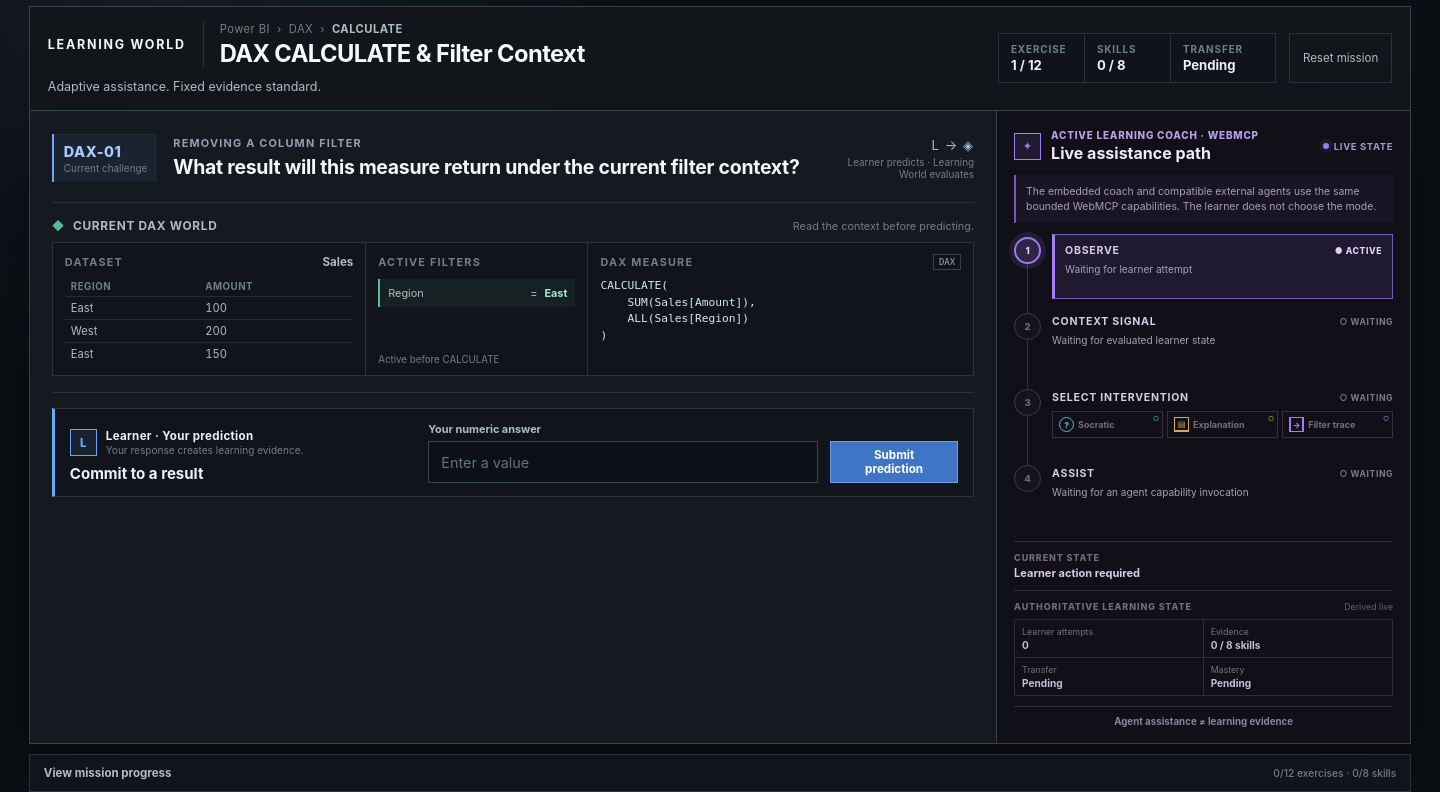
Test: embedded DAX Active Learning Coach flow › binds socratic selection to the real request_socratic_intervention WebMCP result and rail
The width and height of the screenshot is (1440, 792).
Type "250" into the number field labelled "Your numeric answer" at x=623, y=462, box top-left (428, 441), bottom-right (818, 483)
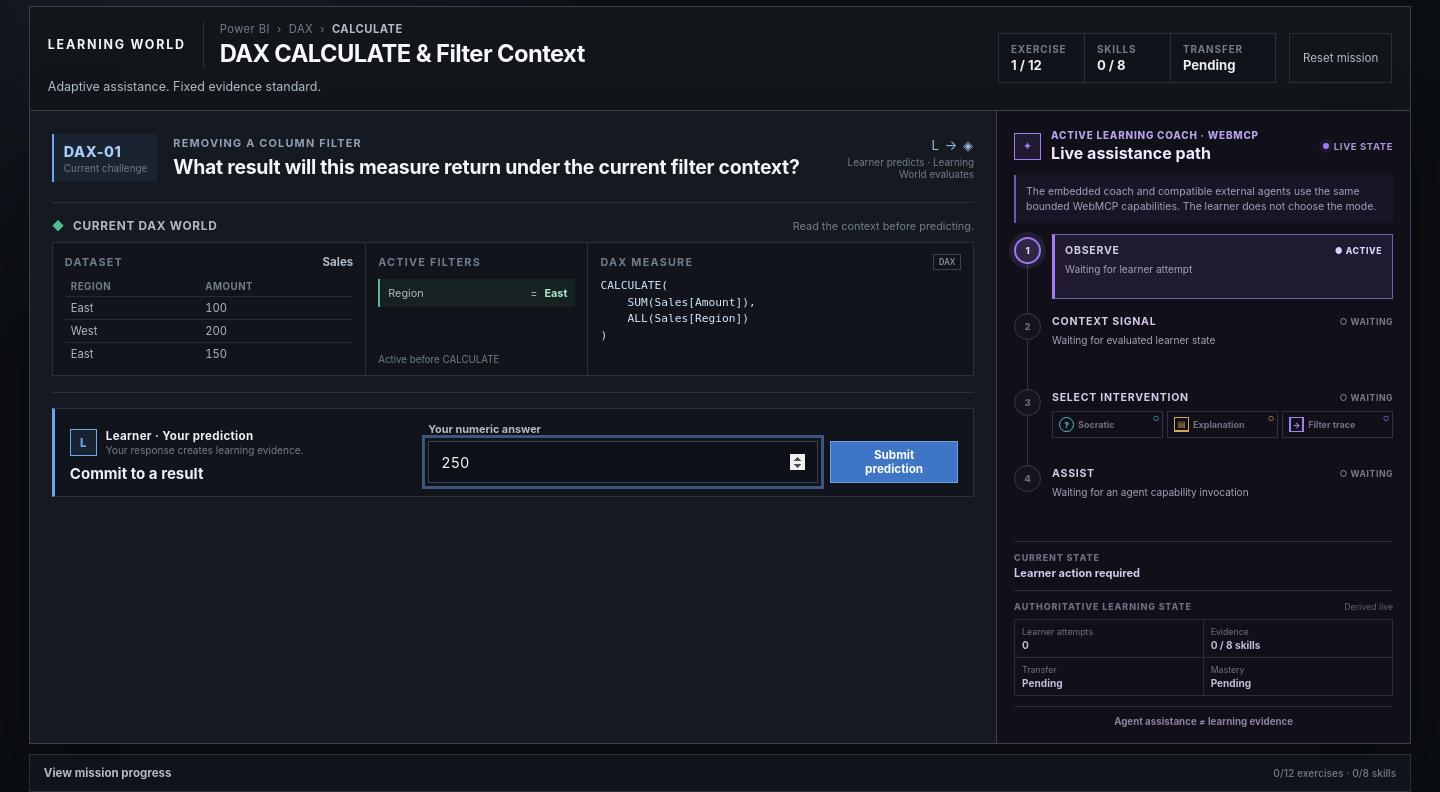
Click the button "Submit prediction" at x=894, y=462, box top-left (830, 441), bottom-right (958, 483)
(page scrolled)
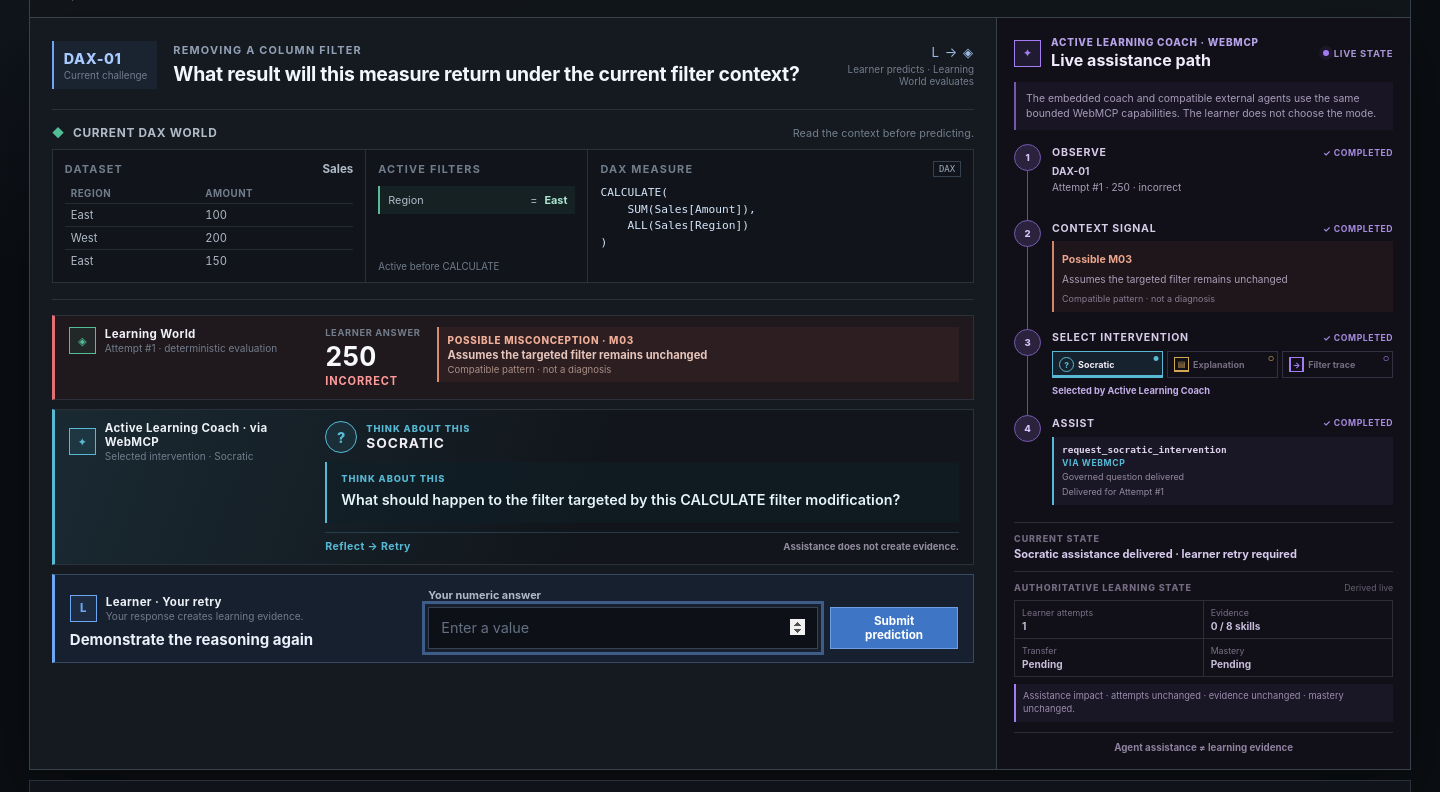
Expected: the text "request_socratic_intervention" is shown, top-left (1062, 444), bottom-right (1227, 455)
Expected: the element named "AI Agent intervention" shows "Active Learning Coach · via WebMCP", top-left (52, 409), bottom-right (974, 565)
Expected: the element named "AI Agent intervention" shows "Selected intervention · Socratic", top-left (52, 409), bottom-right (974, 565)
